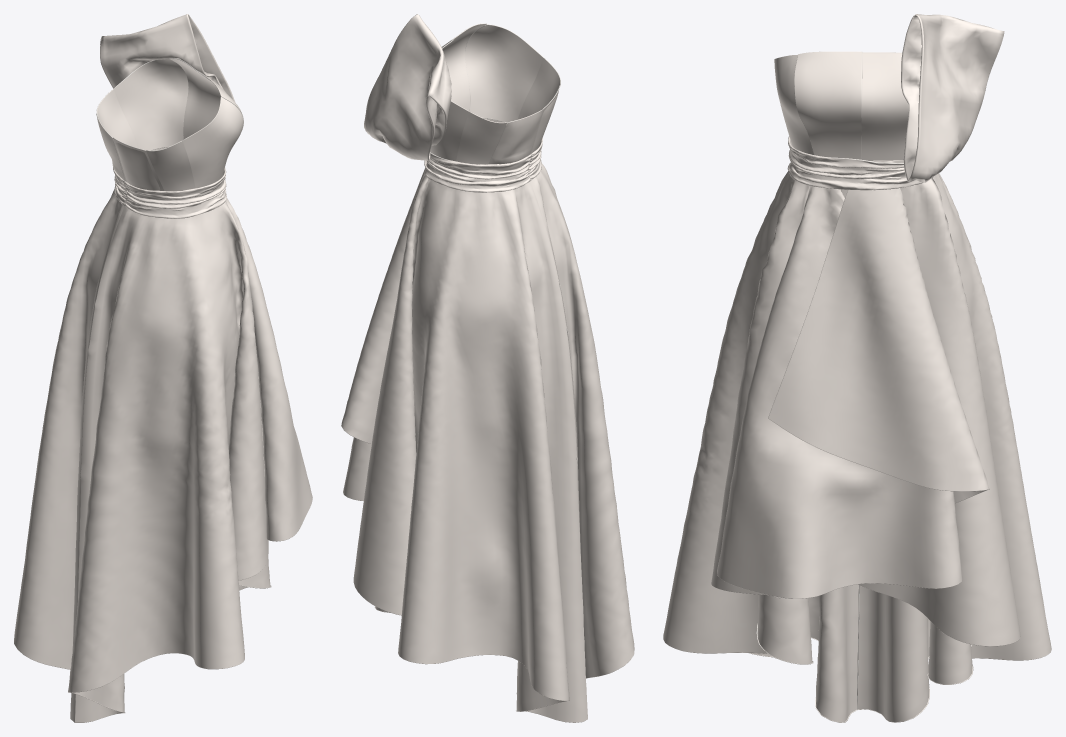
The model's file is white_strapless_european_style_evening_gown.glb.
The picture shows the model from 3 angles, left to right: view 1: azimuth 30°, elevation 25°; view 2: azimuth 150°, elevation 25°; view 3: azimuth 270°, elevation 25°; orthographic projection. The views are drawn at different scales.
Parts seen in each view (by area): view 1: Object_9, Object_7, Object_5, Object_8, Object_6, Object_3; view 2: Object_7, Object_9, Object_8, Object_5, Object_3, Object_6; view 3: Object_7, Object_9, Object_8, Object_6, Object_3, Object_5.
Boxes of the visible parts, box(x1,y1,x2,y2) form: Object_9: box(68, 198, 312, 722); Object_7: box(14, 189, 124, 722); Object_5: box(96, 58, 243, 188); Object_8: box(96, 14, 234, 190); Object_6: box(113, 58, 243, 191); Object_3: box(113, 167, 226, 218); Object_7: box(341, 168, 587, 722); Object_9: box(343, 117, 634, 710); Object_8: box(364, 14, 558, 164); Object_5: box(430, 24, 543, 164); Object_3: box(424, 138, 542, 192); Object_6: box(441, 23, 560, 154); Object_7: box(768, 160, 1051, 722); Object_9: box(663, 171, 962, 722); Object_8: box(901, 14, 1004, 182); Object_6: box(794, 51, 908, 197); Object_3: box(787, 136, 932, 190); Object_5: box(774, 54, 813, 154).
Size of the model in its own units: 513 by 1384 by 629.
Materials: 1 (1 with a texture image).
